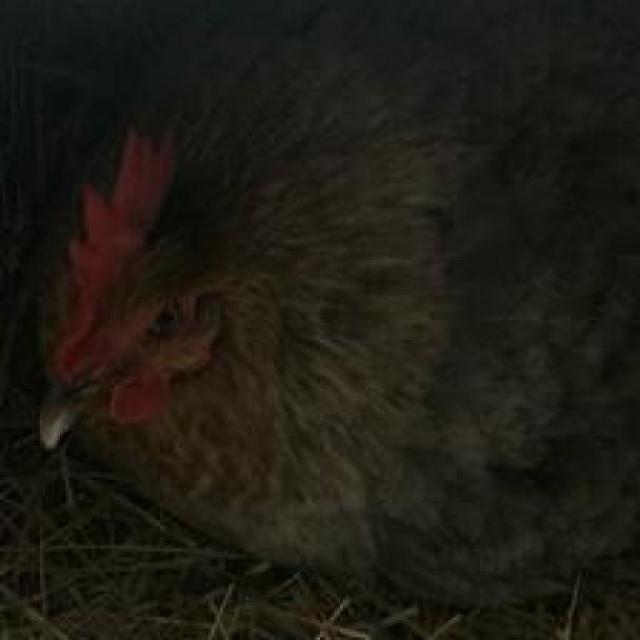Chicken: (21, 5, 627, 628)
